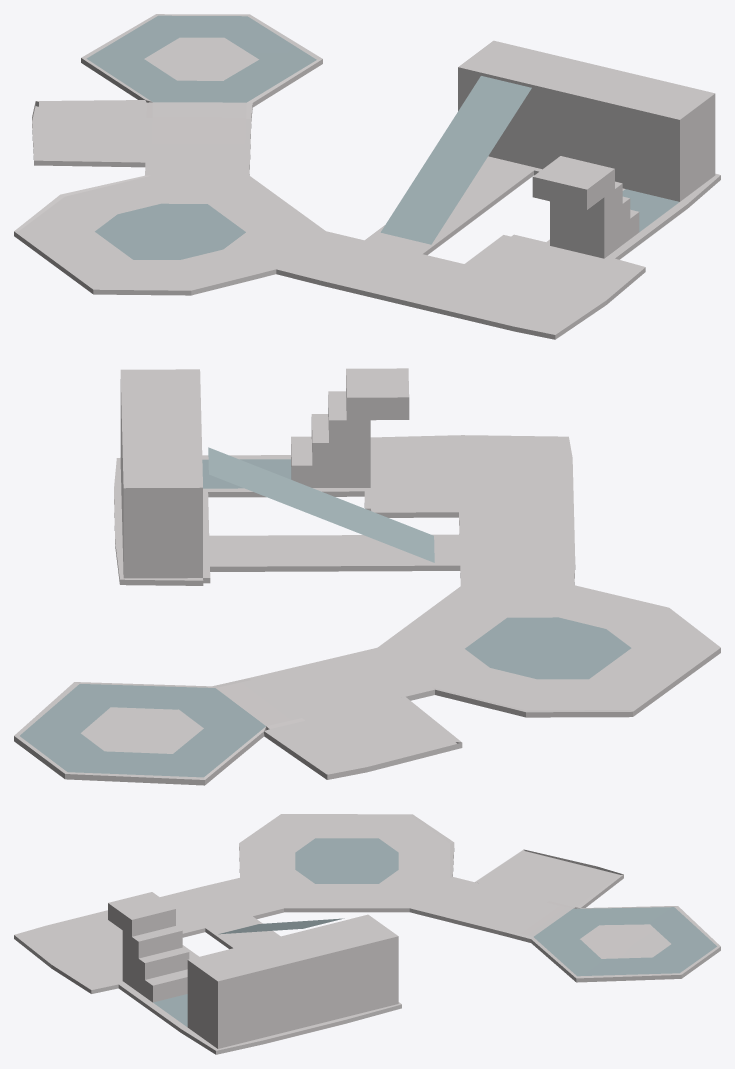
Rendered from tutorial floors.fbx.
3 renders of one model, top to bottom at view 1: azimuth 30°, elevation 25°; view 2: azimuth 150°, elevation 25°; view 3: azimuth 270°, elevation 25°, orthographic. The views are drawn at different scales.
Parts seen in each view (by area): view 1: floors; view 2: floors; view 3: floors.
Part boxes in pixels (x1=…): floors: x1=14, y1=14, x2=720, y2=339; floors: x1=14, y1=368, x2=720, y2=785; floors: x1=14, y1=814, x2=720, y2=1054.
Bounding box in the file's own units: 35.57 × 5.02 × 44.89.
